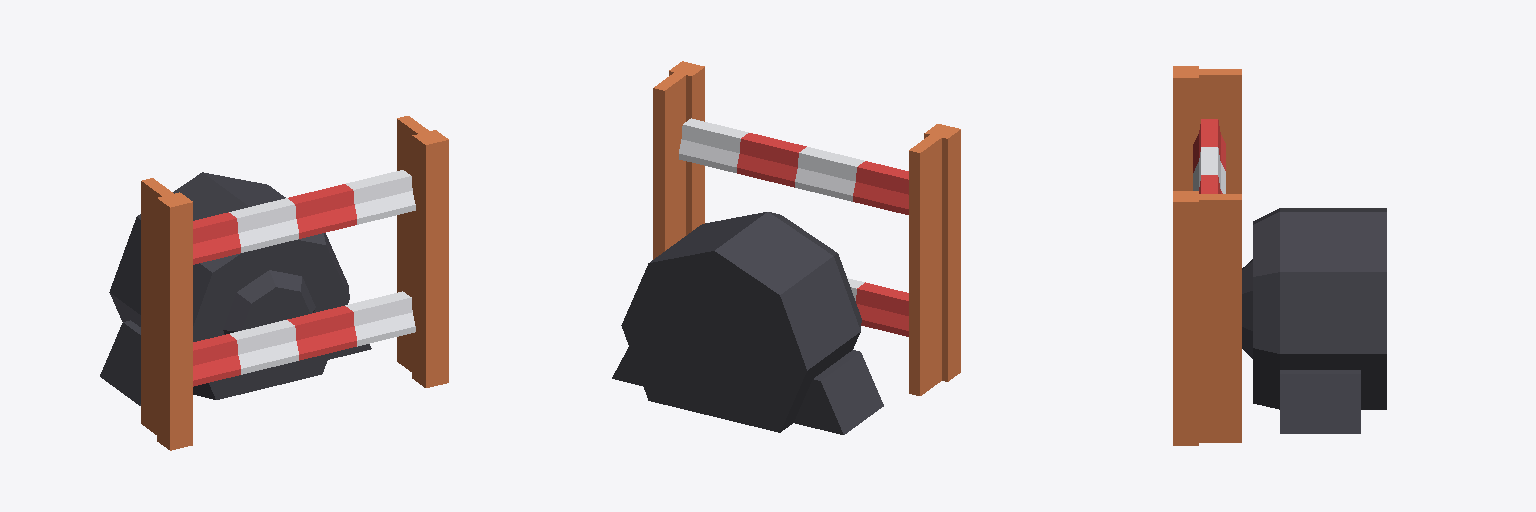
File: SmallBarrier.obj
The picture shows the model from 3 angles: view 1: azimuth 30°, elevation 25°; view 2: azimuth 150°, elevation 25°; view 3: azimuth 270°, elevation 25°; orthographic projection.
Visible parts, largest first — view 1: wallWoodSide, steam_engine_front, barrierWall; view 2: steam_engine_front, wallWoodSide, barrierWall; view 3: steam_engine_front, wallWoodSide, barrierWall.
Boxes of the visible parts, x1,y1,x2,y2 form: wallWoodSide: [141, 116, 448, 450]; steam_engine_front: [100, 172, 371, 405]; barrierWall: [193, 170, 415, 386]; steam_engine_front: [612, 212, 883, 434]; wallWoodSide: [653, 61, 960, 395]; barrierWall: [679, 118, 908, 336]; steam_engine_front: [1242, 208, 1386, 433]; wallWoodSide: [1173, 66, 1241, 445]; barrierWall: [1193, 119, 1225, 193].
Bounding box in the file's own units: 1.2 × 1 × 0.8.